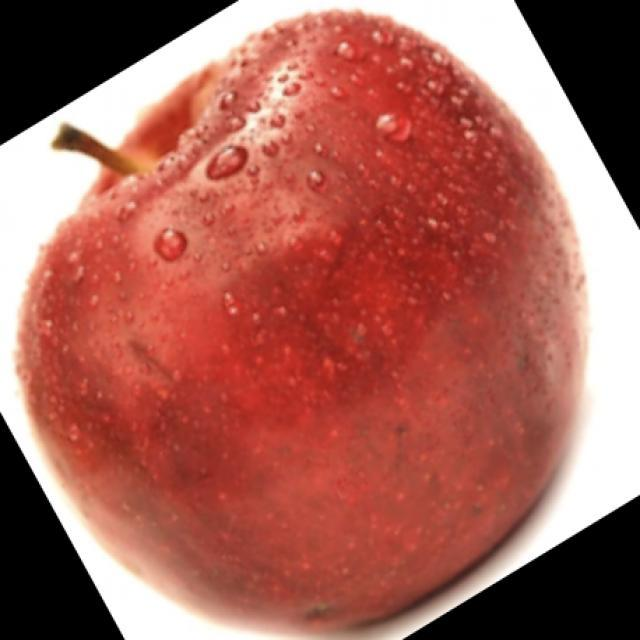Fresh Apple: (48, 7, 595, 620)
